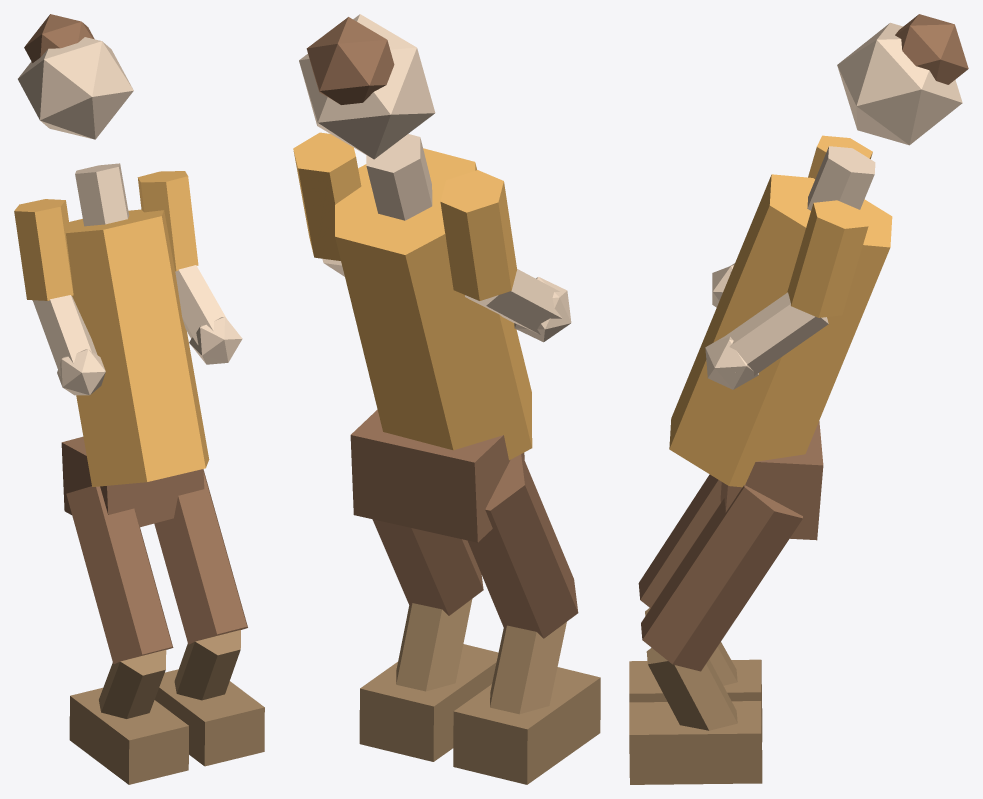
Rendered from pose_hit_light_06.glb.
3 views of the same model, side by side, from view 1: azimuth 30°, elevation 25°; view 2: azimuth 150°, elevation 25°; view 3: azimuth 270°, elevation 25° (orthographic). The views are drawn at different scales.
Visible parts, largest first — view 1: pose; view 2: pose; view 3: pose.
Part boxes in pixels (x1,y1,x2,y2): pose: (14, 14, 264, 784); pose: (293, 14, 600, 784); pose: (629, 14, 968, 784).
Bounding box in the file's own units: 0.4078 × 1.46 × 0.6161.
